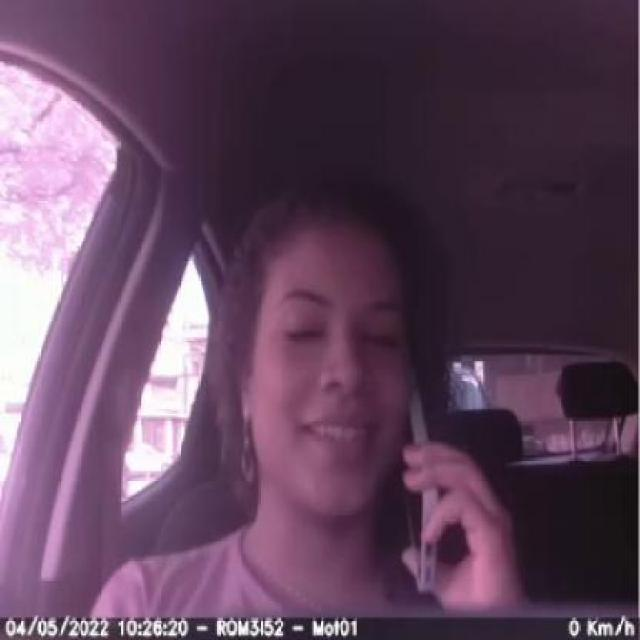using_phone: (317, 298, 507, 620)
